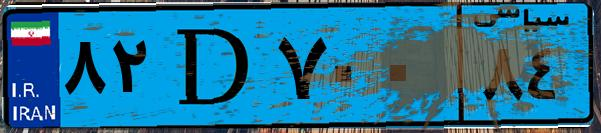0: (385, 28, 445, 110), (330, 28, 385, 110)
2: (110, 28, 158, 98)
4: (525, 38, 570, 115)
7: (270, 28, 330, 110)
8: (57, 26, 110, 100), (475, 38, 525, 113)
D: (158, 12, 270, 120)
